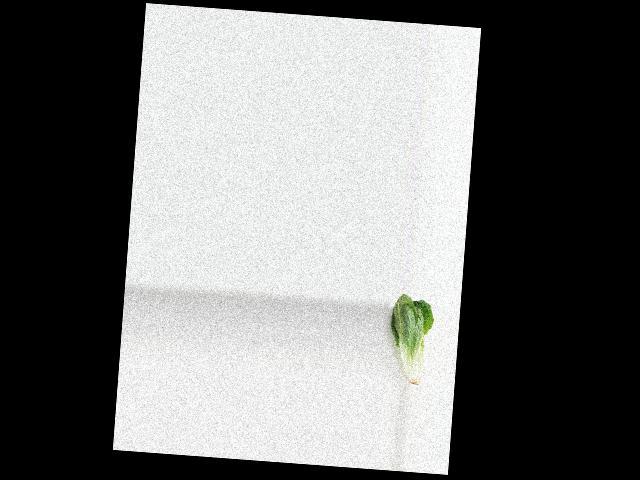lettuce: (383, 292, 436, 390)
